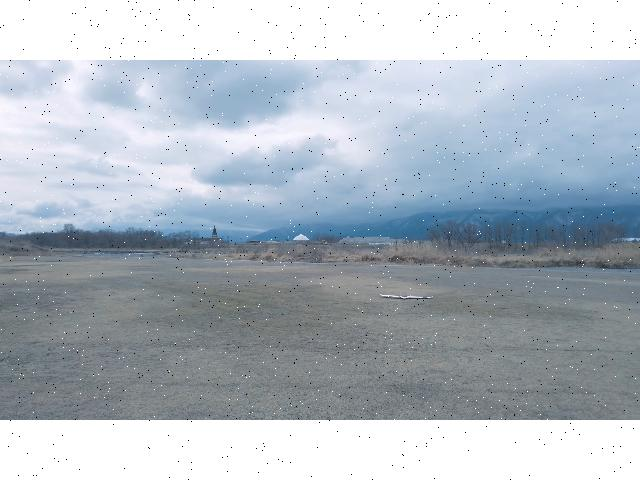Anti-Drone: (373, 290, 435, 304)
